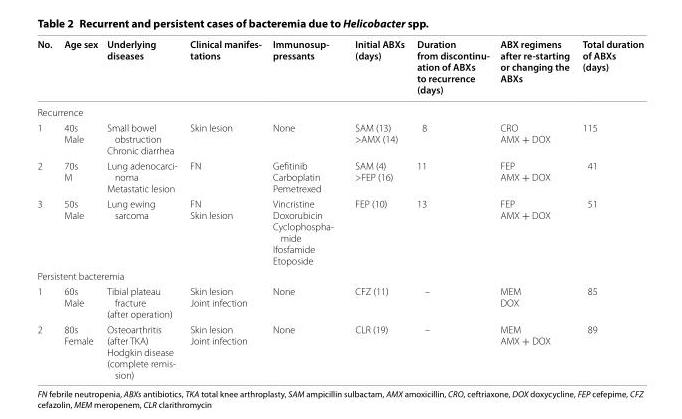table: (36, 37, 643, 380)
table column: (182, 37, 266, 380), (410, 37, 494, 380), (101, 37, 182, 380), (494, 37, 575, 380), (266, 37, 343, 380), (575, 37, 643, 380), (343, 37, 410, 380), (57, 37, 101, 380), (36, 37, 57, 380)
table column header: (36, 37, 643, 100)
table projected row header: (36, 100, 643, 119), (36, 267, 643, 283)
table row: (36, 195, 643, 267), (36, 37, 643, 100), (36, 321, 643, 380), (36, 119, 643, 157), (36, 157, 643, 195), (36, 283, 643, 321), (36, 100, 643, 119), (36, 267, 643, 283)
